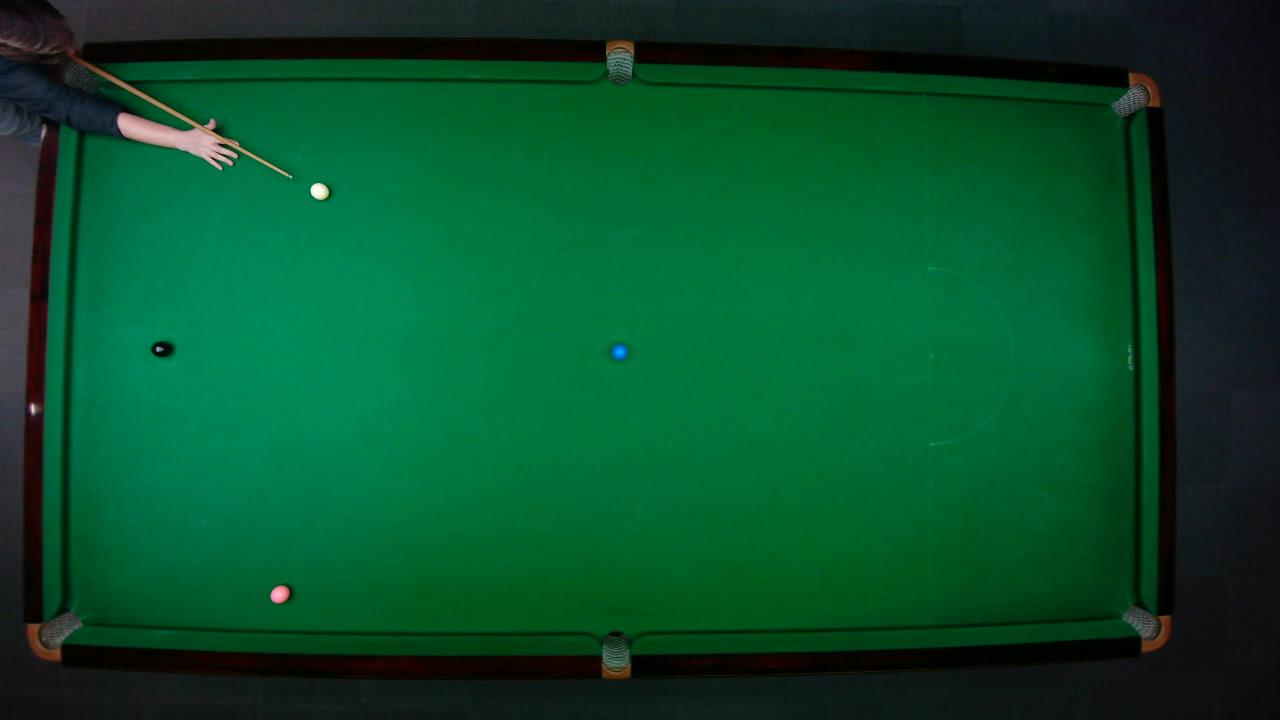bag: (25, 609, 83, 661), (1119, 603, 1171, 652), (1109, 71, 1161, 118), (601, 629, 630, 680), (605, 38, 633, 85)
black: (149, 339, 171, 357)
blue: (610, 342, 628, 360)
cue: (75, 39, 292, 182)
pink: (268, 583, 290, 604)
white: (309, 181, 330, 200)
zone: (926, 265, 1013, 445)
